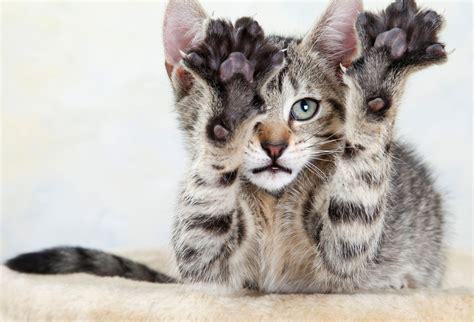cat: (5, 1, 452, 292)
